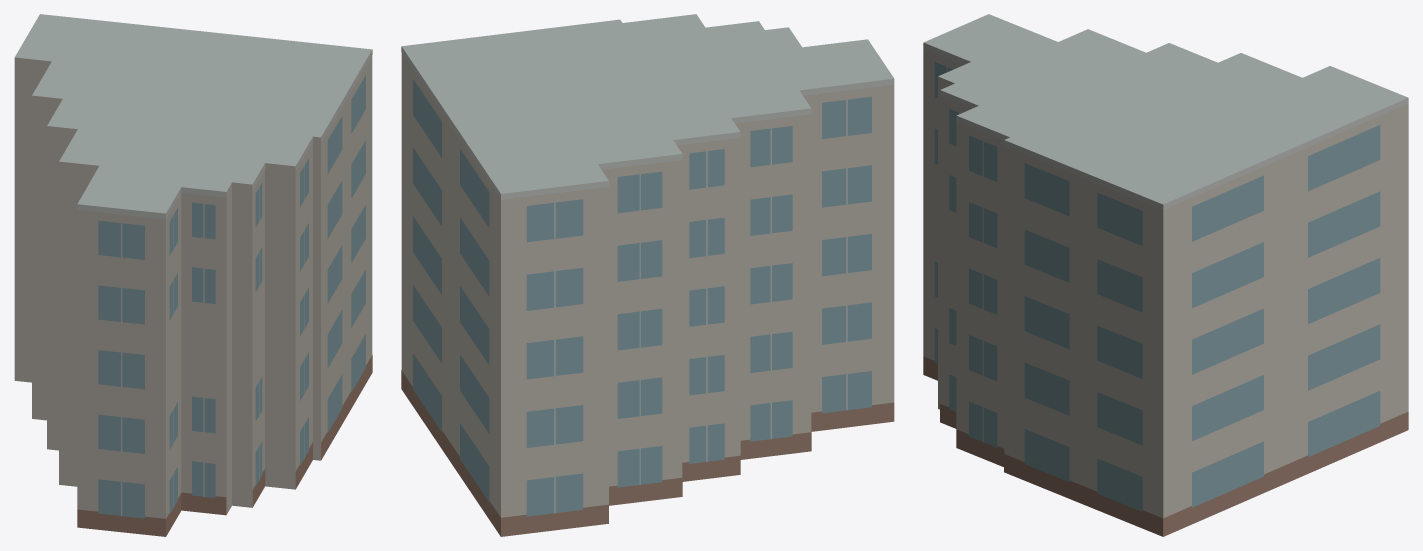
Rendered from survey-upis-32998230.glb.
The picture shows the model from 3 angles, left to right: view 1: azimuth 30°, elevation 25°; view 2: azimuth 150°, elevation 25°; view 3: azimuth 270°, elevation 25°; orthographic projection. The views are drawn at different scales.
Visible parts, largest first — view 1: survey-upis-32998230.tmp; view 2: survey-upis-32998230.tmp; view 3: survey-upis-32998230.tmp.
Part boxes in pixels (left/top/right/bottom): survey-upis-32998230.tmp: left=14, top=14, right=372, bottom=536; survey-upis-32998230.tmp: left=401, top=14, right=894, bottom=536; survey-upis-32998230.tmp: left=923, top=14, right=1408, bottom=536.
Size of the model in its own units: 17.22 by 14 by 18.53.
